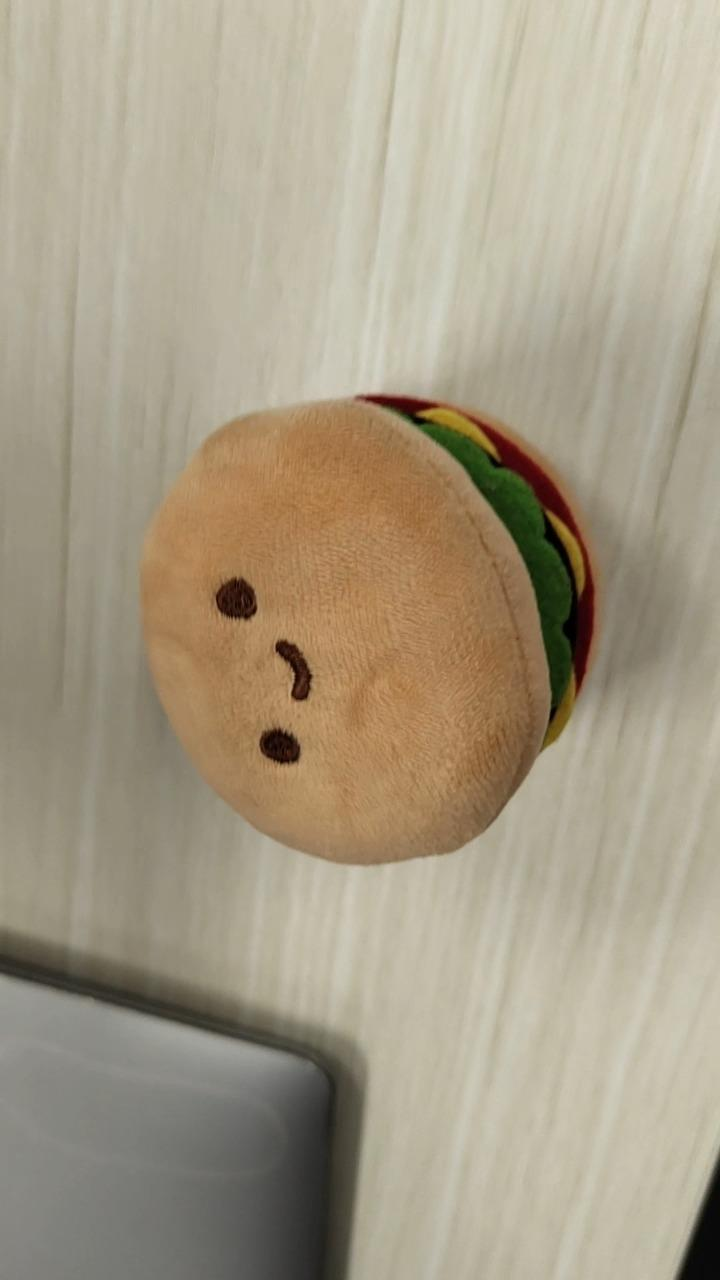hamburger: (137, 390, 598, 867)
